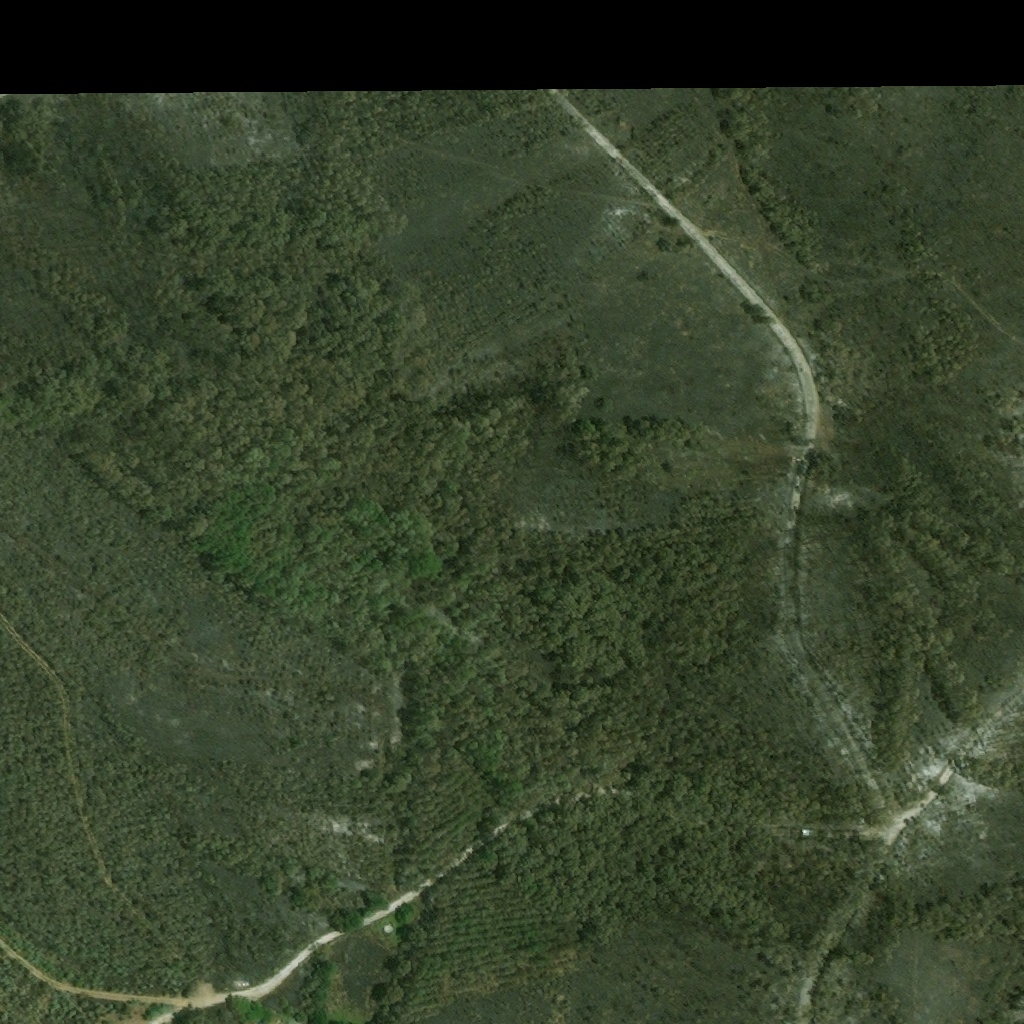4 un-classified: (249, 994, 257, 1001)
